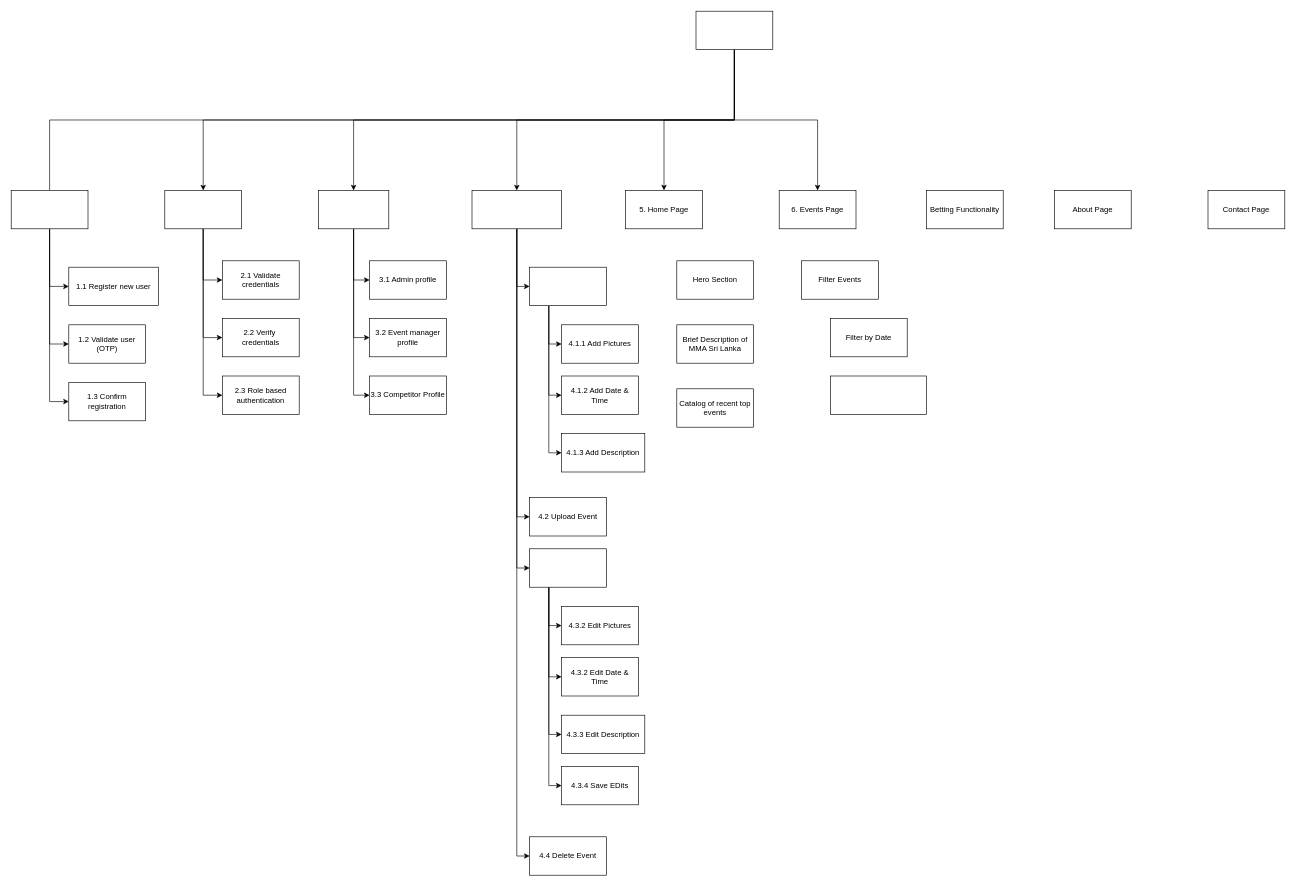
Image size: 1296x886. Some labels were removed from this diagram. Each missing label, with the box of its shape:
1. Registration: (11, 190, 88, 229)
2. Login: (164, 190, 242, 229)
3. Profile: (318, 190, 389, 229)
4. Event Management: (471, 190, 562, 229)
4.1 Add Event (Event Manager): (529, 267, 606, 306)
4.3 Edit Event (Event Manager): (529, 548, 606, 587)
Filter by type (Boxing, MMA, BJJ, Muay Thai): (830, 375, 926, 414)
MMA Sri Lanka: (695, 11, 773, 50)
